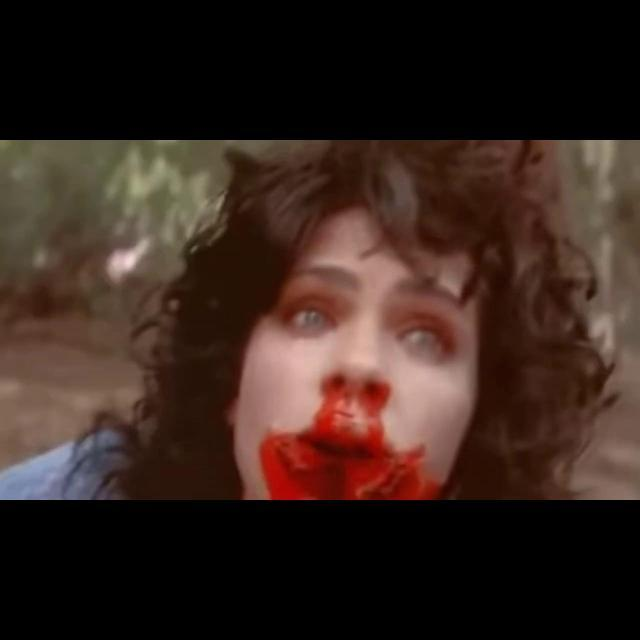blood: (261, 376, 440, 500)
